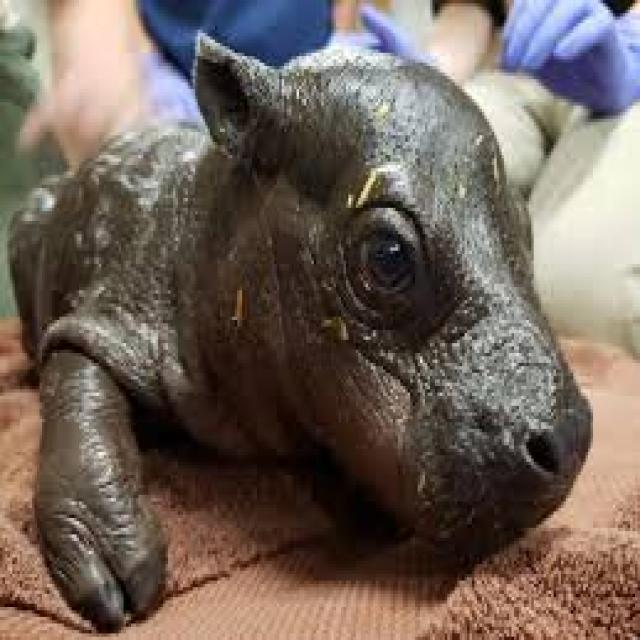Hippopotamus: (7, 48, 595, 640)
